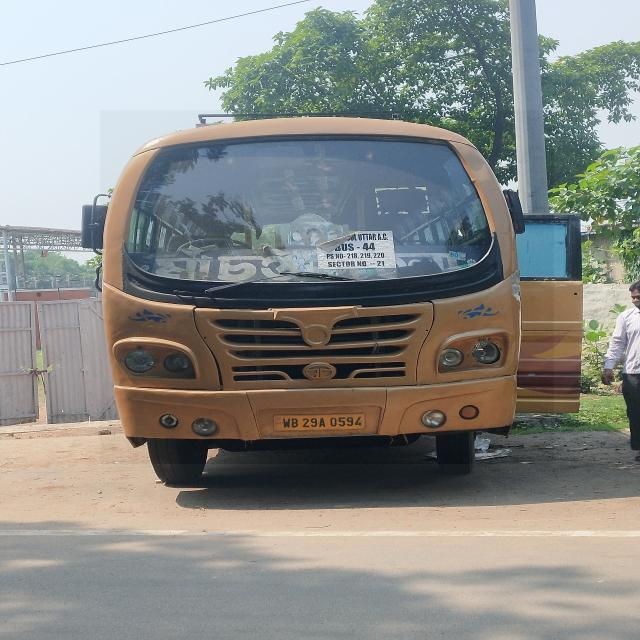Bus: (100, 110, 554, 464)
